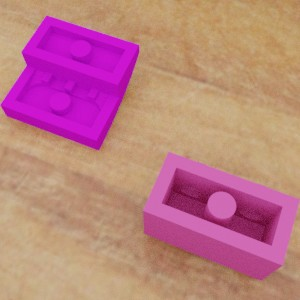lego: (142, 151, 299, 280), (0, 15, 139, 150)
